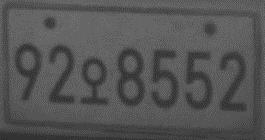2: (218, 50, 248, 113), (46, 44, 75, 105)
5: (150, 48, 180, 110), (183, 50, 213, 109)
8: (115, 48, 145, 105)
9: (12, 42, 42, 102)
오: (79, 57, 110, 106)
